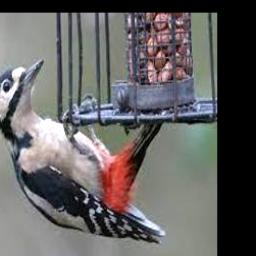Woodpecker: (0, 58, 165, 243)
